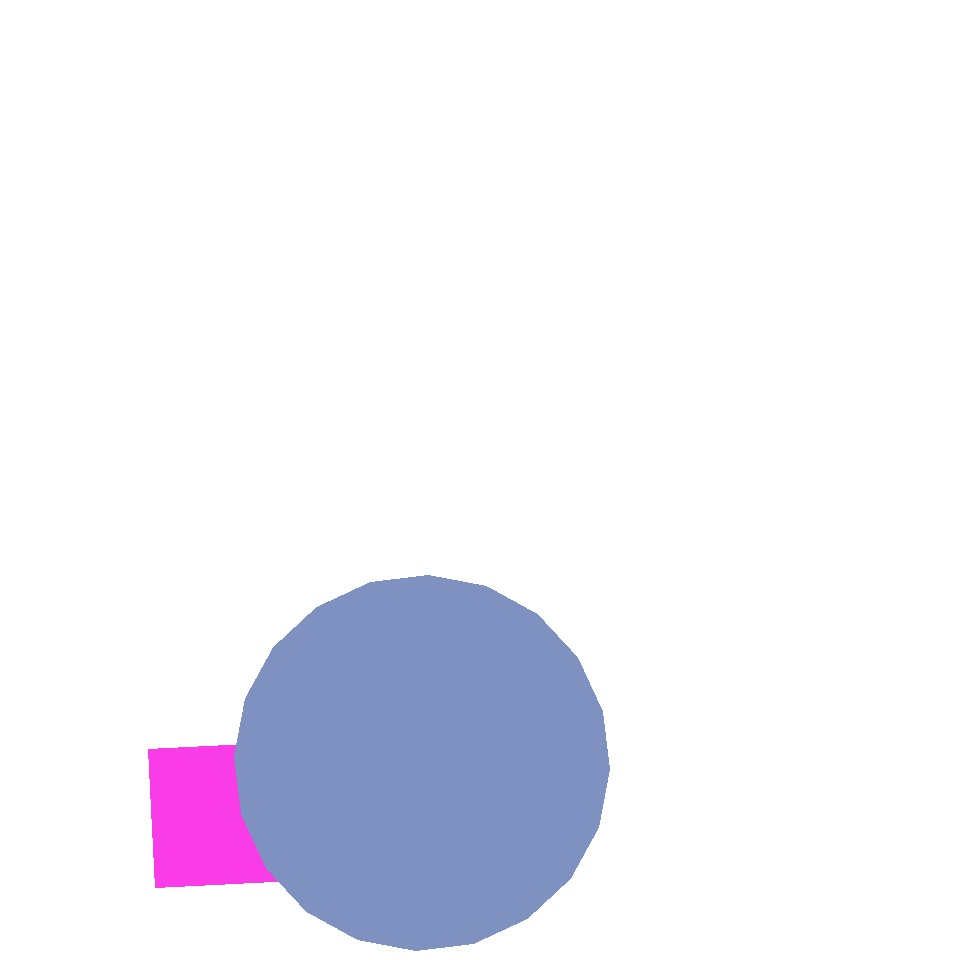circle: (221, 502, 459, 732), (247, 205, 439, 386)
square: (148, 742, 294, 888)
triangle: (234, 576, 610, 950), (538, 672, 824, 958), (281, 328, 552, 598), (478, 646, 726, 894)
